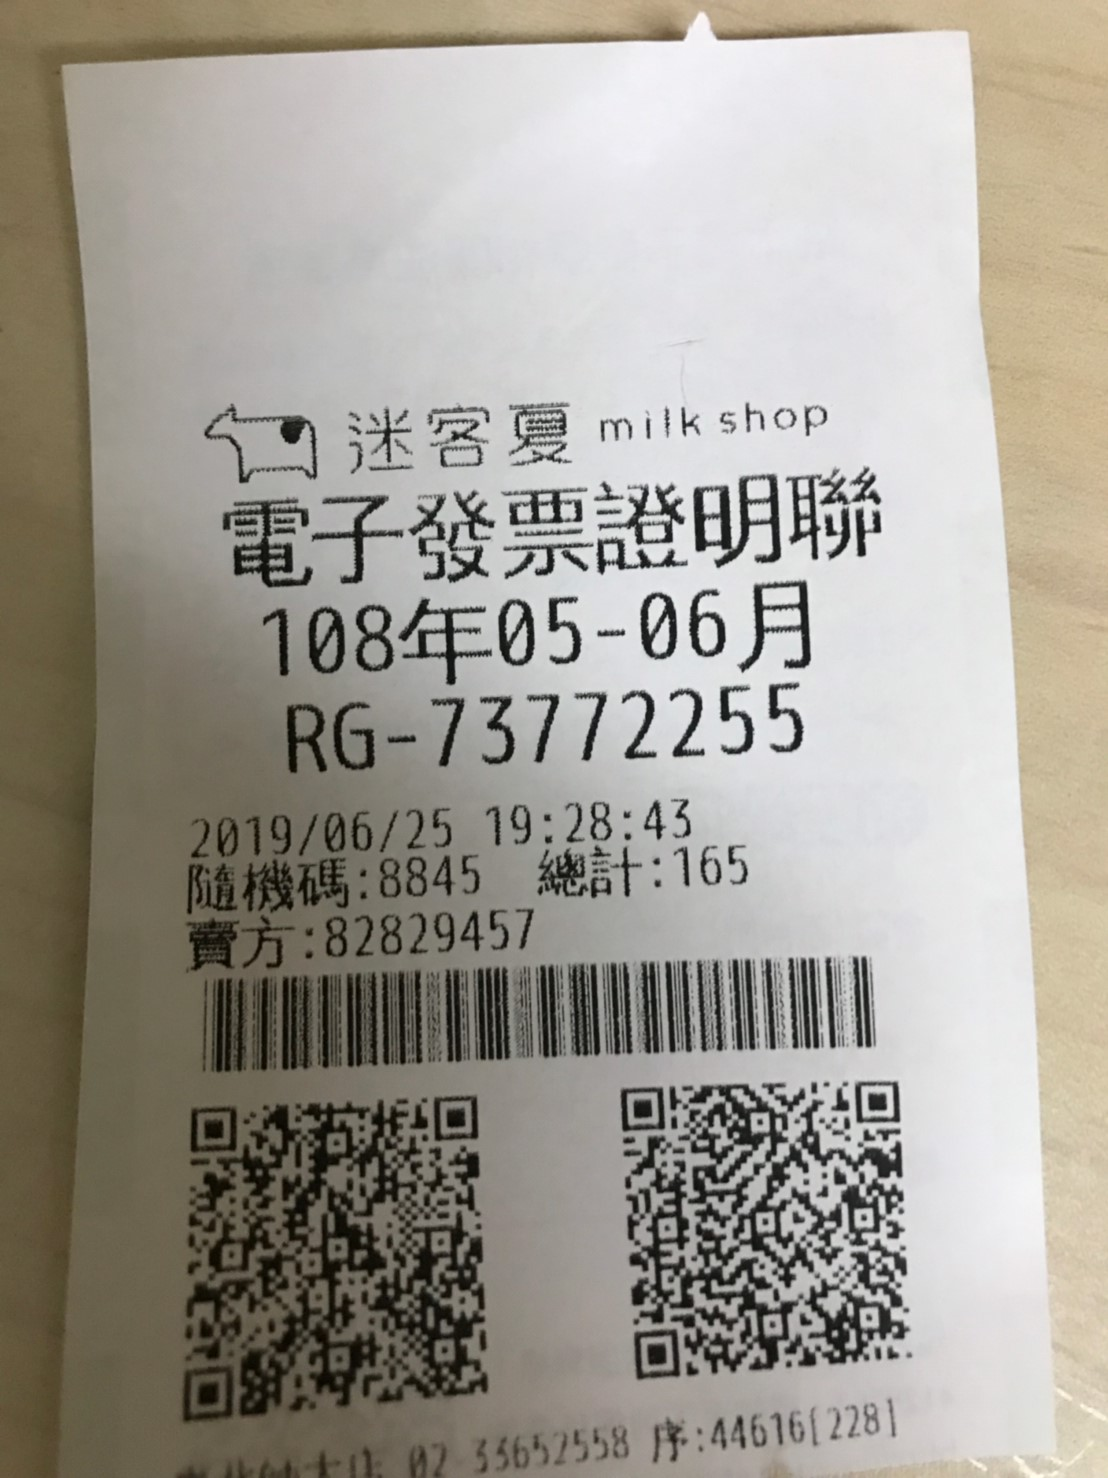Date_New: (260, 574, 823, 690)
Number_New: (428, 678, 811, 770)
